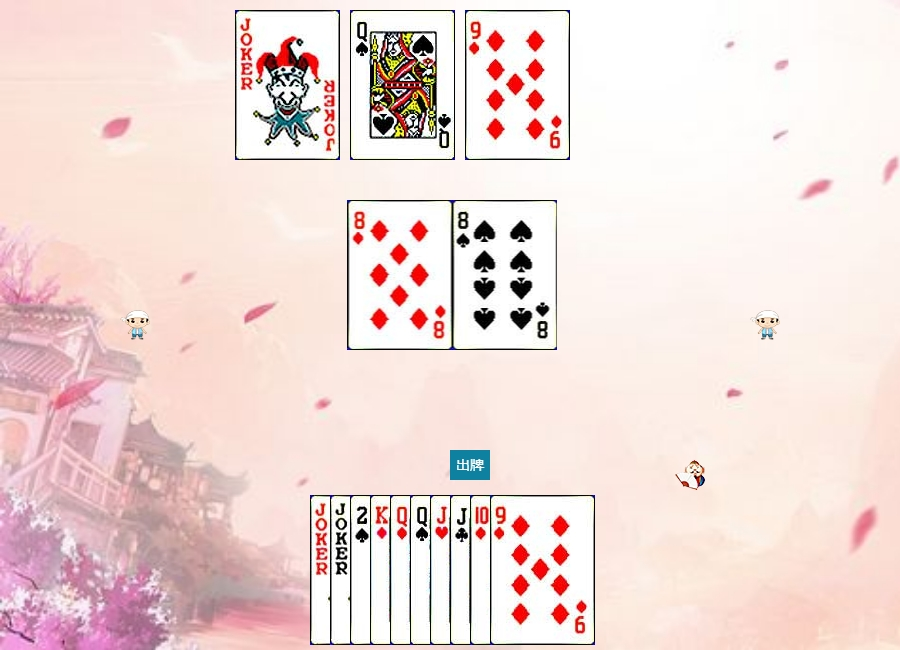10~1: (470, 495, 575, 645)
11~2: (450, 495, 555, 645)
11~3: (430, 495, 535, 645)
12~1: (390, 495, 495, 645)
12~4: (350, 10, 455, 160), (410, 495, 515, 645)
13~1: (370, 495, 475, 645)
15~4: (350, 495, 455, 645)
17~3: (330, 495, 435, 645)
18~4: (235, 10, 340, 160), (310, 495, 415, 645)
8~1: (348, 200, 453, 350)
8~4: (453, 200, 558, 350)
9~1: (465, 10, 570, 160), (490, 495, 595, 645)
